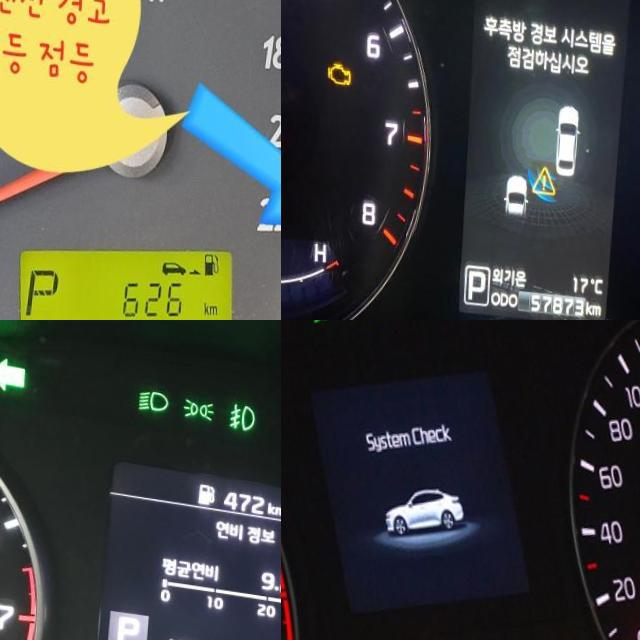FrontFogLight: (231, 391, 259, 422)
Low beam: (139, 381, 171, 406)
SideLamp: (185, 389, 217, 413)
